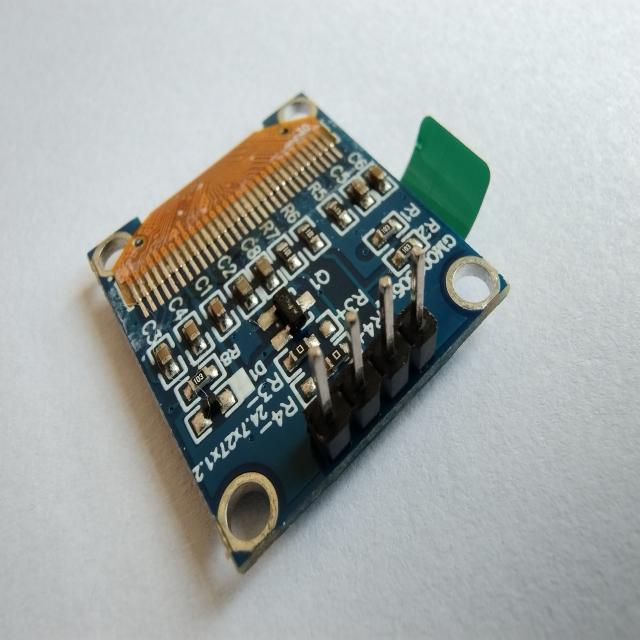oled: (84, 69, 524, 594)
